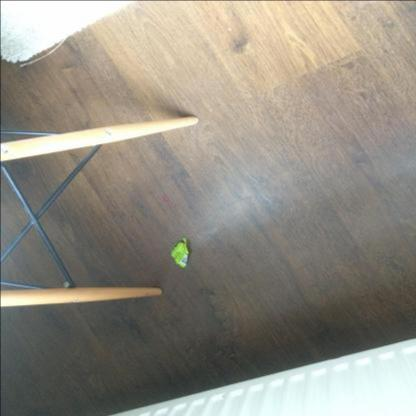Plastic bag - wrapper: (171, 238, 188, 268)
